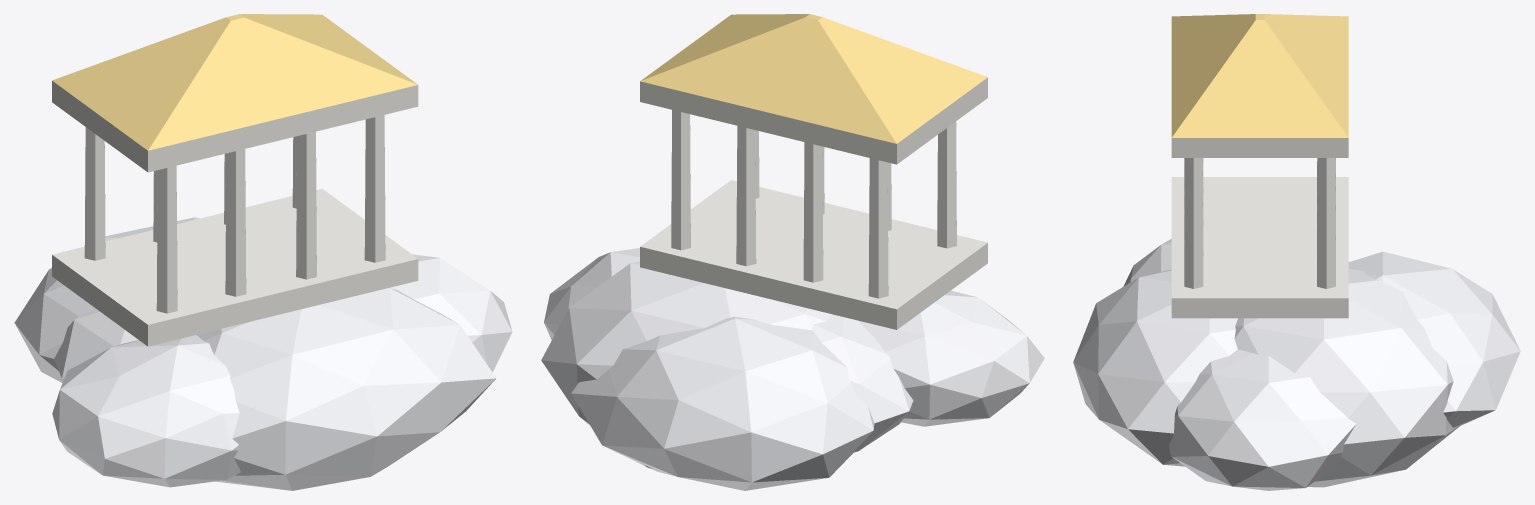
File: Island3.obj
3 renders of one model, left to right at view 1: azimuth 30°, elevation 25°; view 2: azimuth 150°, elevation 25°; view 3: azimuth 270°, elevation 25°, orthographic. The views are drawn at different scales.
Visible parts, largest first — view 1: Island3; view 2: Island3; view 3: Island3.
Boxes of the visible parts, <box> form: Island3: <box>14,14,512,490</box>; Island3: <box>541,14,1044,490</box>; Island3: <box>1073,14,1520,490</box>.
Bounding box in the file's own units: 2.28 × 2.07 × 2.02.
1 material, 1 textured.
